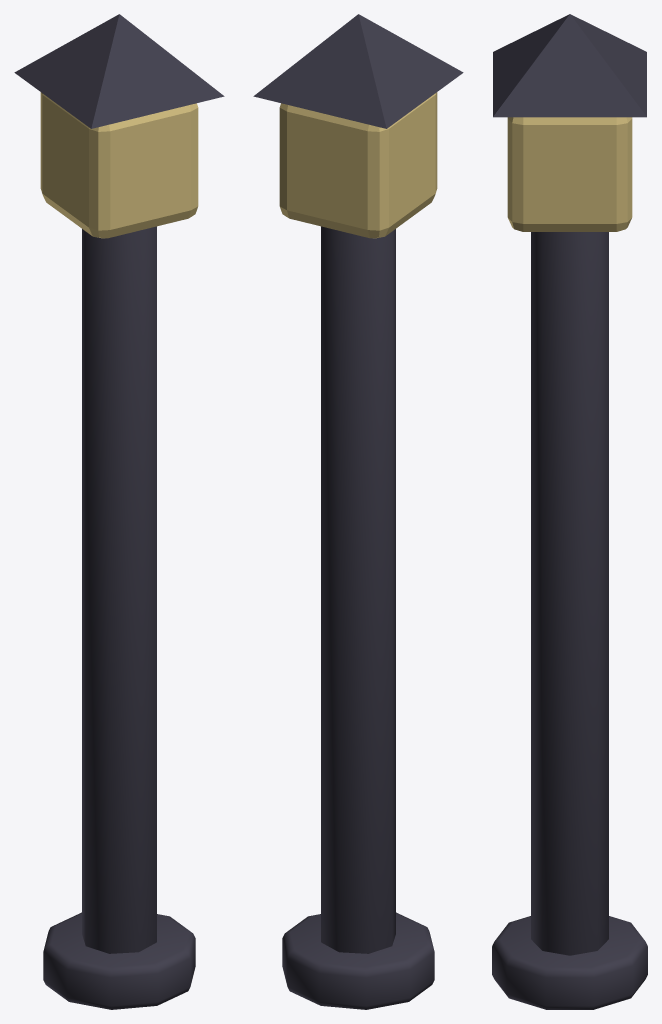
Rendered from lamp_post.fbx.
3 views of the same model, side by side, from view 1: azimuth 30°, elevation 25°; view 2: azimuth 150°, elevation 25°; view 3: azimuth 270°, elevation 25° (orthographic).
Parts seen in each view (by area): view 1: lamp_post; view 2: lamp_post; view 3: lamp_post.
Part boxes in pixels (left/top/right/bottom): lamp_post: left=14, top=14, right=224, bottom=1009; lamp_post: left=253, top=14, right=463, bottom=1009; lamp_post: left=492, top=14, right=647, bottom=1009.
Size of the model in its own units: 0.198 by 1.37 by 0.2.
